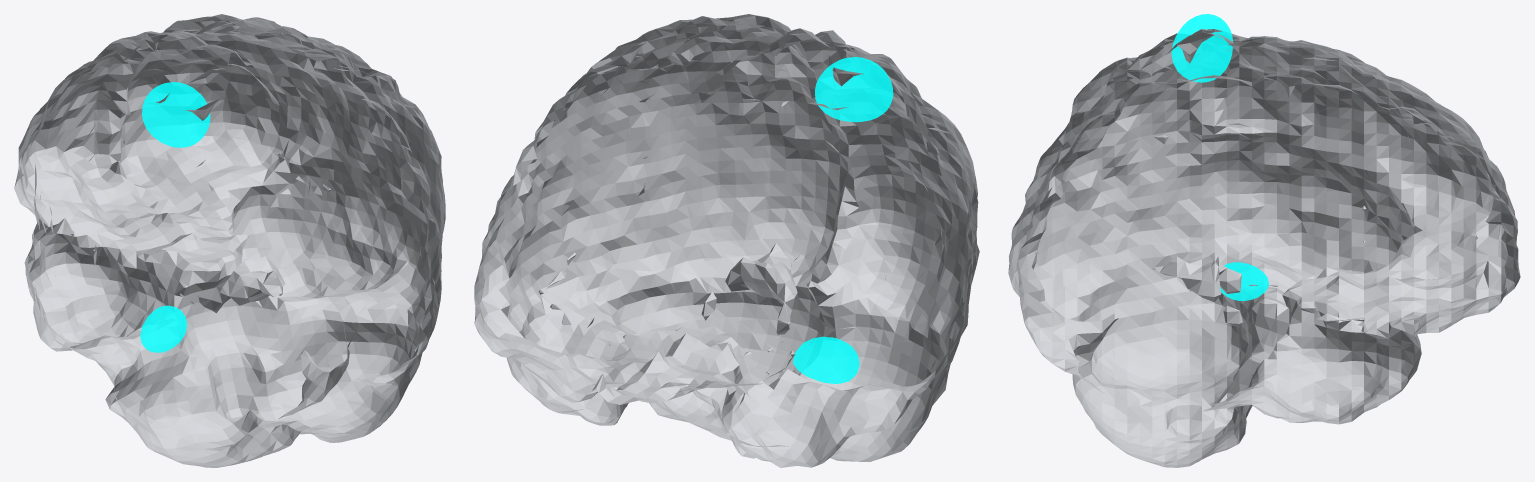
Rendered from sub-PID20_prediction_ar_model.glb.
3 views of the same model, side by side, from view 1: azimuth 30°, elevation 25°; view 2: azimuth 150°, elevation 25°; view 3: azimuth 270°, elevation 25° (orthographic). The views are drawn at different scales.
Parts seen in each view (by area): view 1: Brain_Cortex, Predicted_Hotspot; view 2: Brain_Cortex, Predicted_Hotspot; view 3: Brain_Cortex, Predicted_Hotspot.
Part boxes in pixels (<box>): Brain_Cortex: <box>14,14,445,467</box>; Predicted_Hotspot: <box>140,82,210,352</box>; Brain_Cortex: <box>474,14,979,467</box>; Predicted_Hotspot: <box>793,57,893,383</box>; Brain_Cortex: <box>1008,29,1520,467</box>; Predicted_Hotspot: <box>1171,14,1268,300</box>.
Size of the model in its own units: 0.1359 by 0.1336 by 0.1644.
